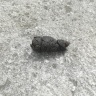Dog: (32, 35, 70, 52)
